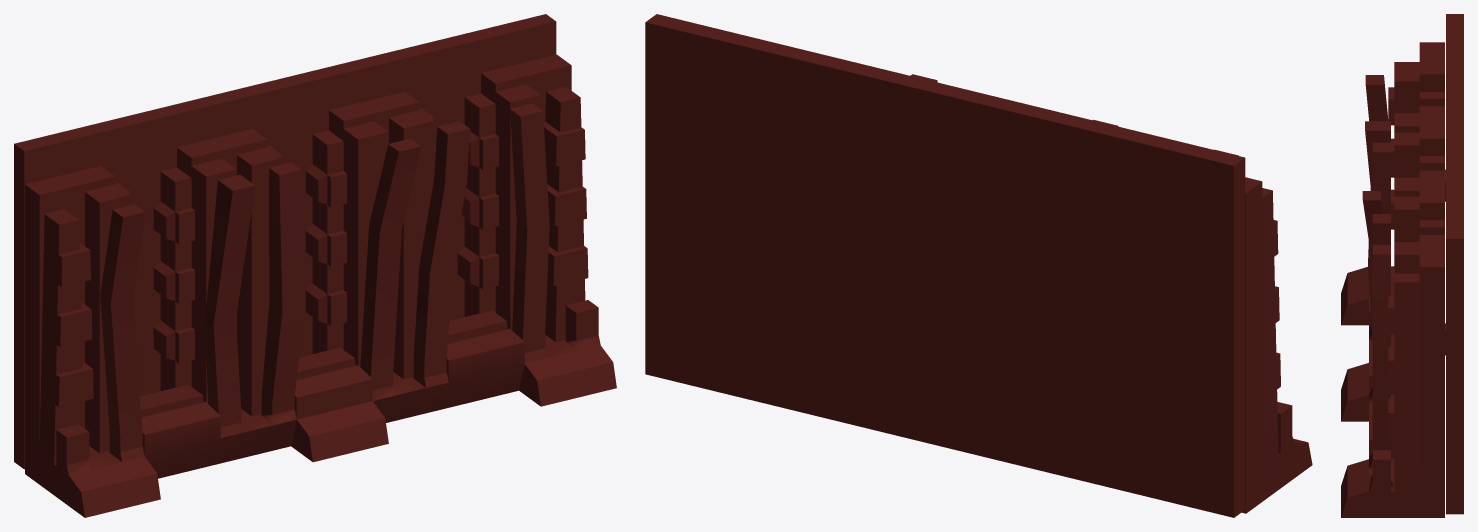
File: TempleSolidWall.FBX
3 renders of one model, left to right at view 1: azimuth 30°, elevation 25°; view 2: azimuth 150°, elevation 25°; view 3: azimuth 270°, elevation 25°, orthographic. The views are drawn at different scales.
Parts seen in each view (by area): view 1: pCube3; view 2: pCube3; view 3: pCube3.
Boxes of the visible parts, x1,y1,x2,y2 form: pCube3: (14, 14, 616, 517); pCube3: (645, 14, 1312, 517); pCube3: (1341, 14, 1463, 517).
Bounding box in the file's own units: 70 × 40.52 × 16.16.
